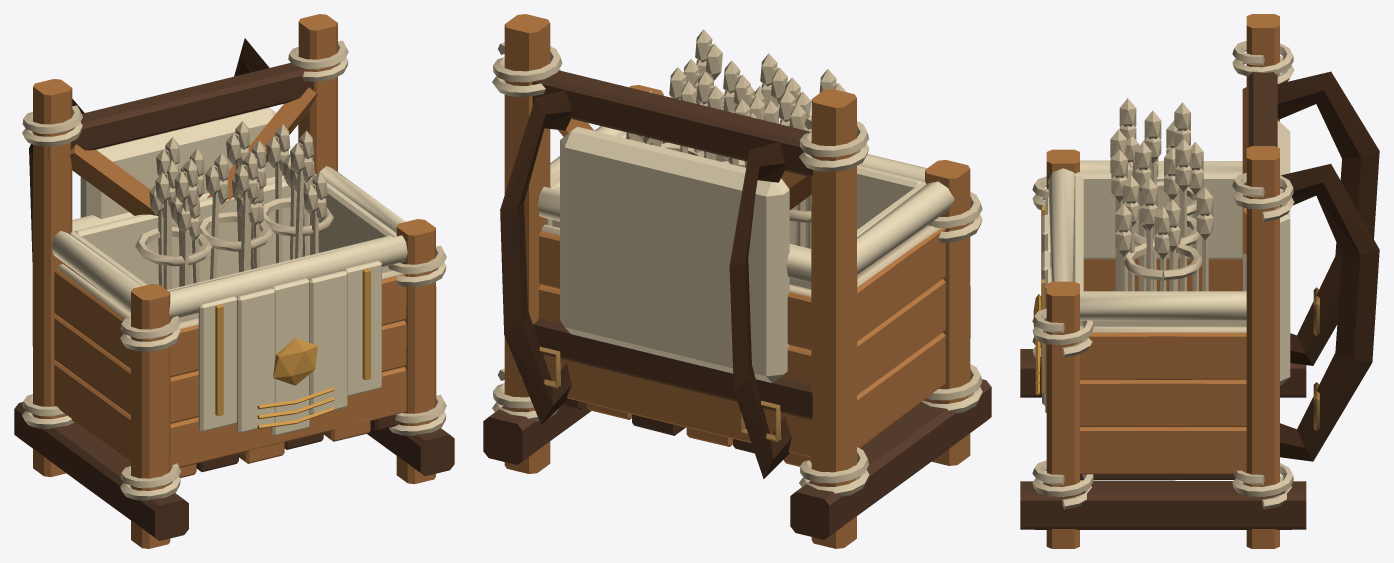
Rendered from prop_trade_pack_barley_a.glb.
The picture shows the model from 3 angles, left to right: view 1: azimuth 30°, elevation 25°; view 2: azimuth 150°, elevation 25°; view 3: azimuth 270°, elevation 25°; orthographic projection. The views are drawn at different scales.
Visible parts, largest first — view 1: prop_trade_pack_barley_a_LOD0; view 2: prop_trade_pack_barley_a_LOD0; view 3: prop_trade_pack_barley_a_LOD0.
Part boxes in pixels (x1,y1,x2,y2): prop_trade_pack_barley_a_LOD0: (14, 14, 454, 548); prop_trade_pack_barley_a_LOD0: (483, 14, 991, 548); prop_trade_pack_barley_a_LOD0: (1020, 14, 1379, 548).
Size of what is drawn, in the model's own units: 0.8384 by 0.96 by 0.8041.
